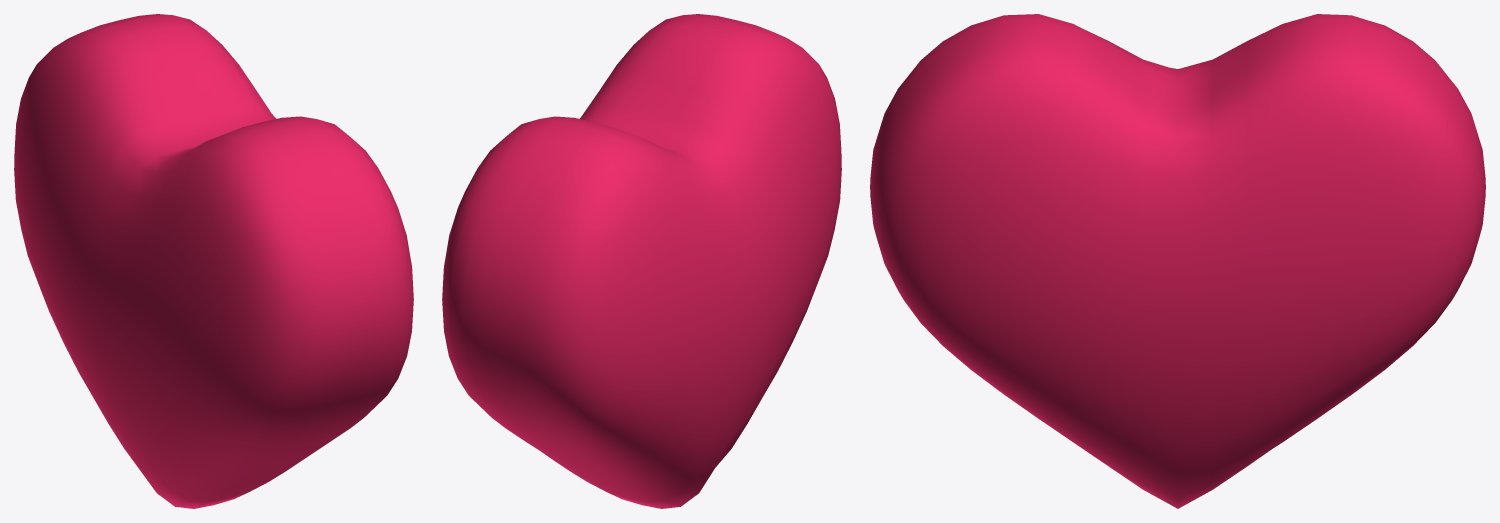
Rendered from heart.fbx.
3 renders of one model, left to right at view 1: azimuth 30°, elevation 25°; view 2: azimuth 150°, elevation 25°; view 3: azimuth 270°, elevation 25°, orthographic. The views are drawn at different scales.
Visible parts, largest first — view 1: Cube; view 2: Cube; view 3: Cube.
Boxes of the visible parts, x1,y1,x2,y2 form: Cube: (14,14,413,508); Cube: (442,14,841,508); Cube: (870,14,1485,508).
Size of the model in its own units: 99.58 by 185 by 221.
